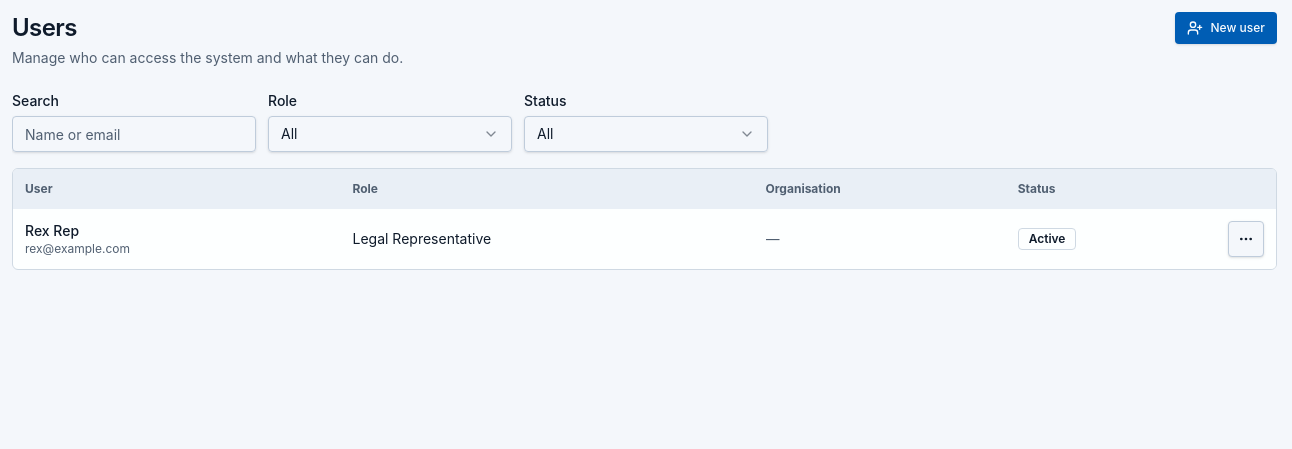
Scenario: UsersPage › an admin gets one actions menu per row with every action in it
The width and height of the screenshot is (1292, 449).
Expected: the text "Rex Rep" is shown, [25, 222, 79, 239]
Expected: the button "New user" is shown, [1174, 12, 1277, 44]
Click the button named "actions for rex rep" at (1246, 239), box [1228, 221, 1264, 257]
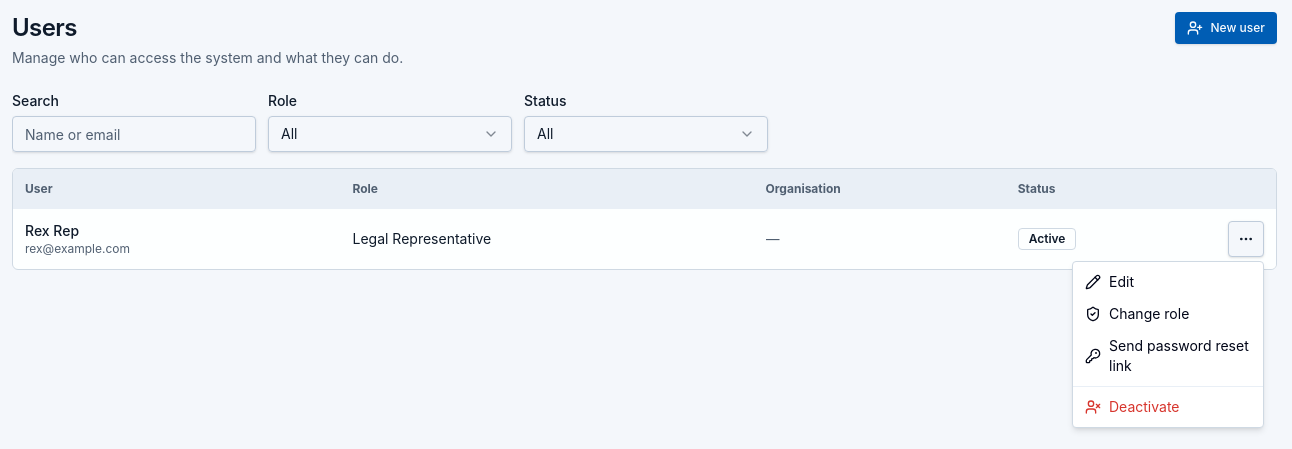
Expected: the menu item "Edit" is shown, [1085, 273, 1134, 290]
Expected: the menu item "Change role" is shown, [1085, 305, 1189, 322]
Expected: the menu item "Send password reset link" is shown, [1077, 330, 1259, 382]
